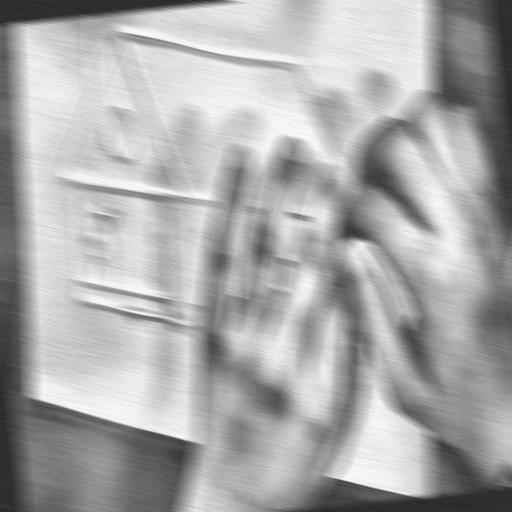bottom_left: (24, 389, 37, 401)
house: (42, 0, 394, 393)
